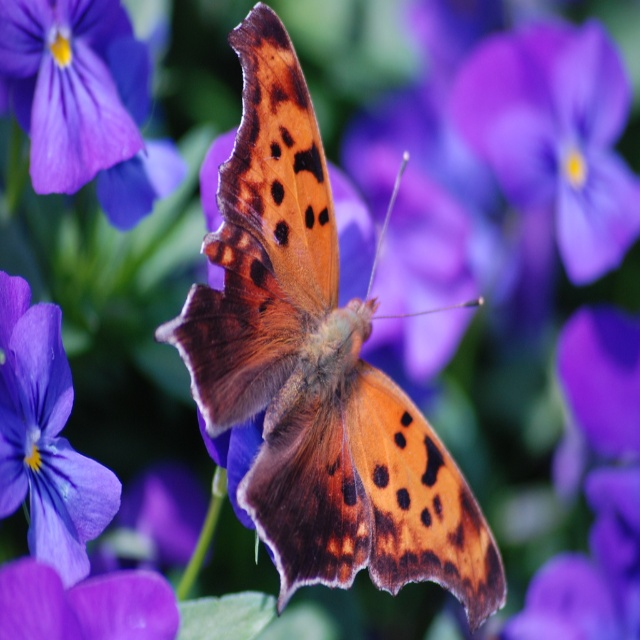Butterfly: (179, 44, 462, 627)
